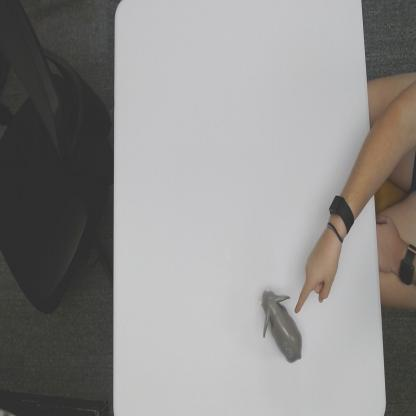Arm: (350, 127, 375, 220)
Elephant: (260, 286, 303, 366)
Hand: (295, 220, 339, 315)
